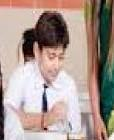cheating: (0, 10, 86, 136)
